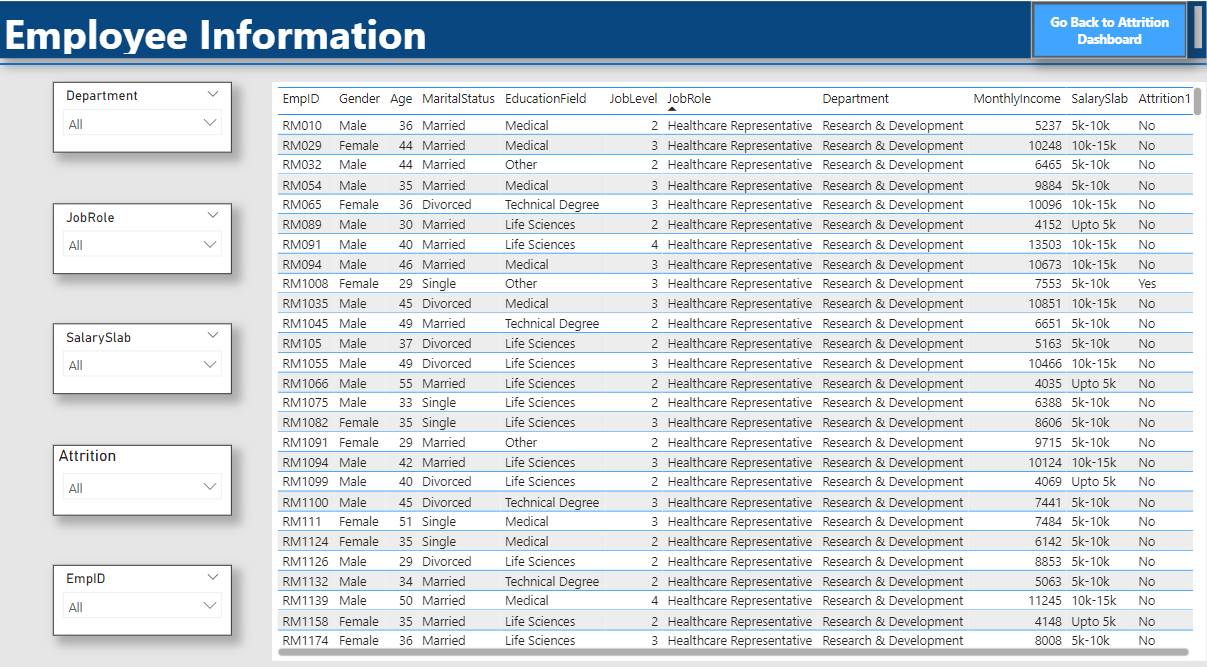

The dashboard page shown, as its layout file describes it:
{"tool":"powerbi","page":{"name":"Employee Information","canvas":[1280,720],"ordinal":1},"visuals":[{"type":"tableEx","fields":{"Values":["HR_Analytics.EmpID","HR_Analytics.Gender","HR_Analytics.Age","HR_Analytics.MaritalStatus","HR_Analytics.EducationField","HR_Analytics.JobLevel","HR_Analytics.JobRole","HR_Analytics.Department","HR_Analytics.MonthlyIncome","HR_Analytics.SalarySlab","HR_Analytics.Attrition1"]},"box":[289.3,85.8,990.2,613.5],"z":0},{"type":"slicer","fields":{"Values":["HR_Analytics.Department"]},"box":[57.2,85.8,189.1,74.7],"z":1000},{"type":"slicer","fields":{"Values":["HR_Analytics.SalarySlab"]},"box":[57.2,341.7,189.1,74.7],"z":2000},{"type":"slicer","fields":{"Values":["HR_Analytics.JobRole"]},"box":[57.2,213.8,189.1,74.7],"z":3000},{"type":"slicer","title":"Attrition","fields":{"Values":["HR_Analytics.Attrition1"]},"box":[57.2,469.7,189.1,74.7],"z":4000},{"type":"slicer","fields":{"Values":["HR_Analytics.EmpID"]},"box":[57.2,597.6,189.1,74.7],"z":5000},{"type":"textbox","box":[0,0,1279.5,60.4],"z":6000},{"type":"shape","box":[0,60.4,1279.5,12.7],"z":7000},{"type":"actionButton","box":[1093.5,0,165.3,60.4],"z":7001}]}

Visuals, with their boxes in screenshot pixels (x1, y1, x2, y2), scaled from the page's 1280x720 canvas onto the 1207x667 screenshot:
tableEx - HR_Analytics.EmpID x HR_Analytics.Gender: region(273, 79, 1206, 648)
slicer - HR_Analytics.Department: region(54, 79, 232, 149)
slicer - HR_Analytics.SalarySlab: region(54, 317, 232, 386)
slicer - HR_Analytics.JobRole: region(54, 198, 232, 267)
"Attrition" slicer: region(54, 435, 232, 504)
slicer - HR_Analytics.EmpID: region(54, 554, 232, 623)
textbox: region(0, 0, 1206, 56)
shape: region(0, 56, 1206, 68)
actionButton: region(1031, 0, 1187, 56)
